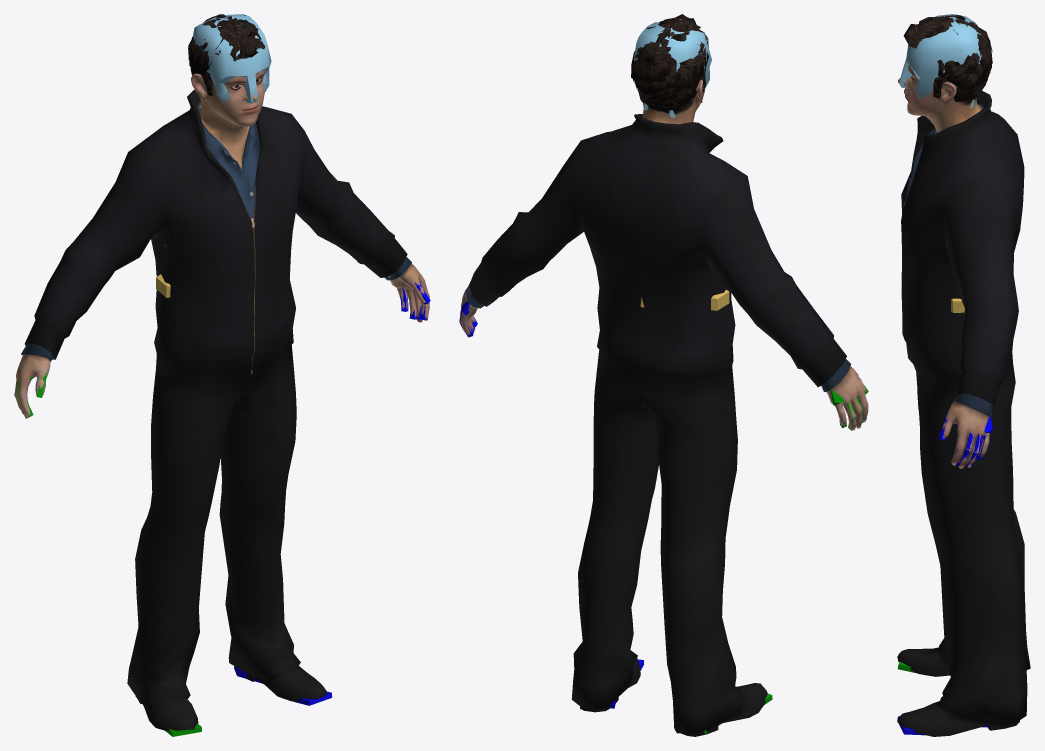
3 renders of one model, left to right at view 1: azimuth 30°, elevation 25°; view 2: azimuth 150°, elevation 25°; view 3: azimuth 270°, elevation 25°, orthographic.
Parts seen in each view (by area): view 1: CMan0002_M3_Body, Bip01_Head, CMan0002_M3_Hair; view 2: CMan0002_M3_Body, CMan0002_M3_Hair, Bip01_Head; view 3: CMan0002_M3_Body, CMan0002_M3_Hair, Bip01_Head.
Boxes of the visible parts, x1=… form: CMan0002_M3_Body: x1=14, y1=70, x2=429, y2=730; Bip01_Head: x1=192, y1=14, x2=271, y2=103; CMan0002_M3_Hair: x1=188, y1=14, x2=264, y2=95; CMan0002_M3_Body: x1=459, y1=78, x2=868, y2=736; CMan0002_M3_Hair: x1=631, y1=14, x2=708, y2=110; Bip01_Head: x1=634, y1=22, x2=711, y2=117; CMan0002_M3_Body: x1=897, y1=65, x2=1030, y2=736; CMan0002_M3_Hair: x1=903, y1=15, x2=992, y2=101; Bip01_Head: x1=899, y1=14, x2=981, y2=115.
Size of the model in its own units: 92.05 by 147 by 26.18.
